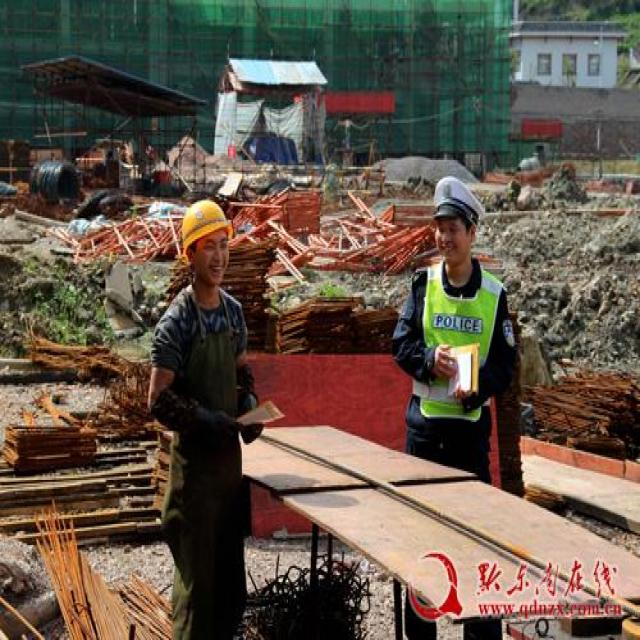Reflective-Jacket: (414, 266, 508, 424)
Safety-Helmet: (179, 199, 232, 248)
